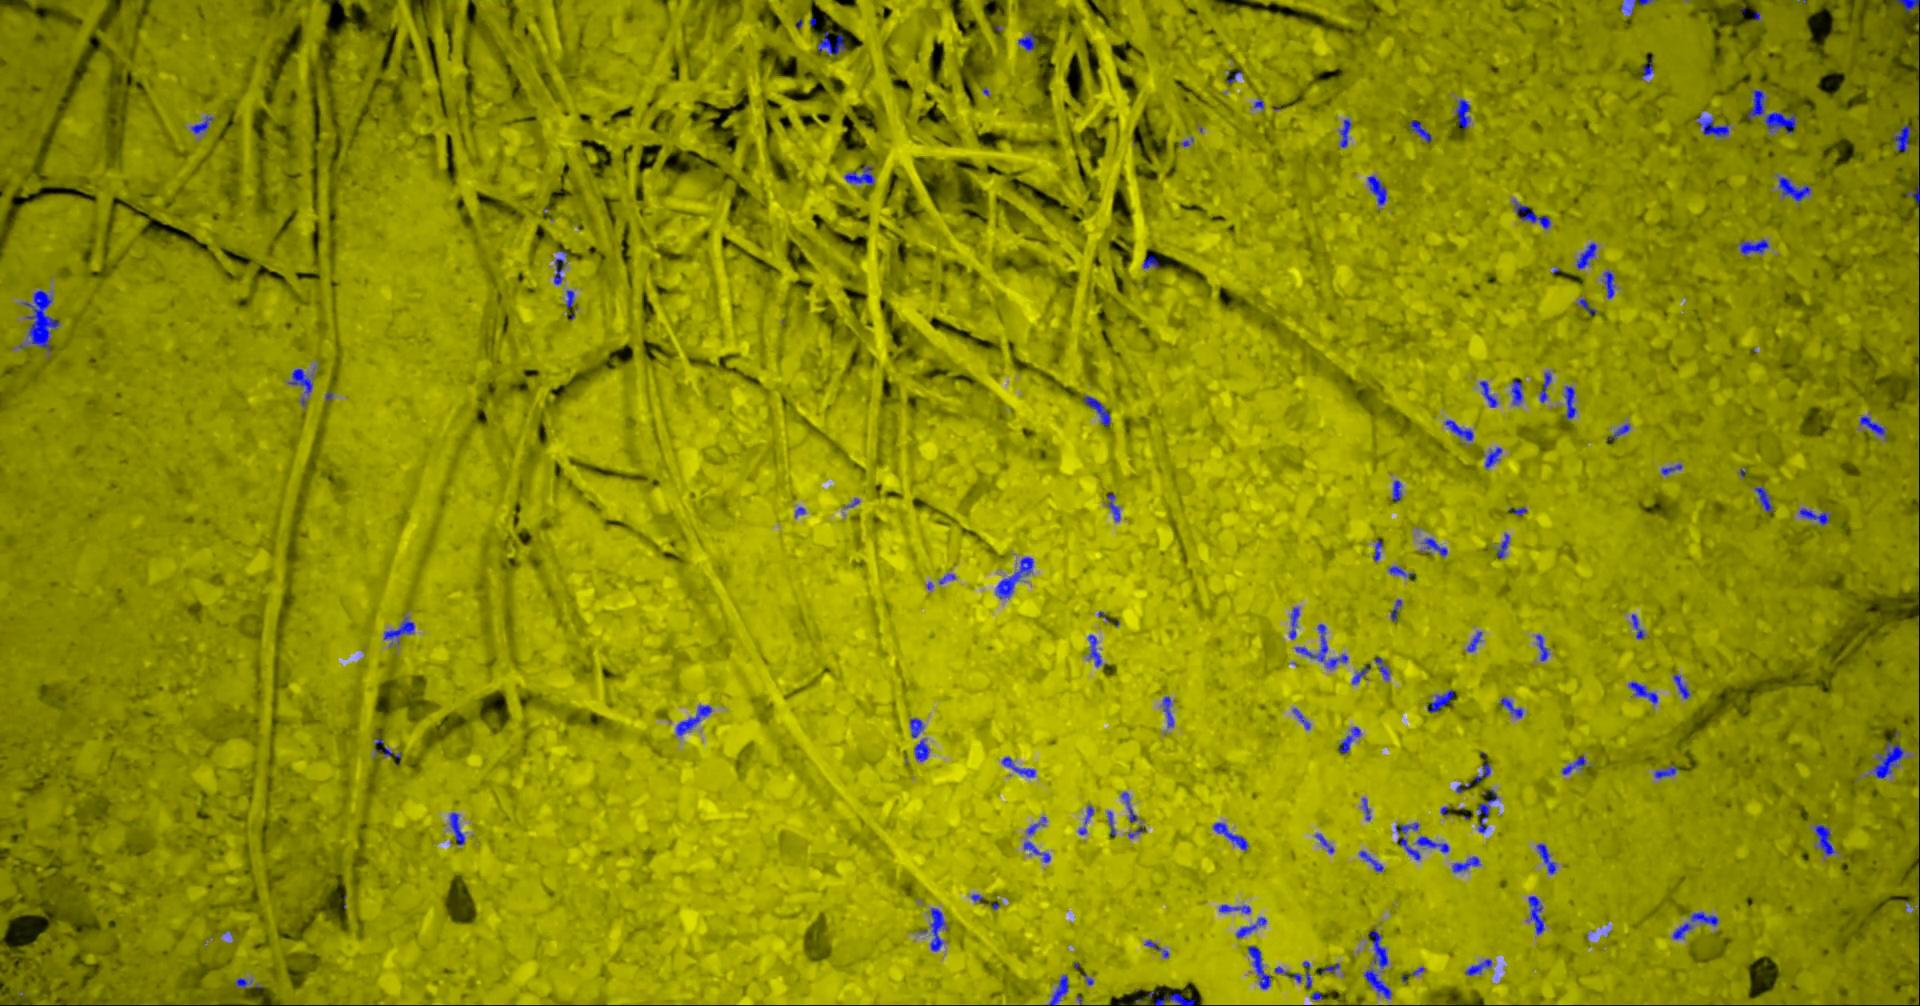ant: (1294, 622, 1349, 668), (22, 290, 58, 351), (1747, 89, 1796, 133), (996, 556, 1032, 598), (1672, 911, 1718, 939), (1872, 741, 1903, 779), (676, 704, 711, 735), (1514, 199, 1550, 227), (1247, 945, 1270, 989), (1211, 822, 1247, 850), (287, 368, 312, 405), (1274, 962, 1310, 987), (1396, 822, 1420, 860), (1477, 789, 1497, 832), (1364, 969, 1390, 998), (1083, 395, 1109, 426), (383, 617, 414, 643), (1778, 177, 1810, 201), (1368, 929, 1387, 968), (1001, 756, 1035, 777), (1695, 116, 1728, 137), (817, 30, 844, 56), (1815, 823, 1836, 855), (1236, 916, 1266, 937), (1426, 688, 1453, 713), (1628, 681, 1657, 702), (1528, 895, 1544, 934), (930, 907, 943, 951), (1048, 974, 1068, 1005), (1444, 419, 1473, 439), (1415, 835, 1448, 852), (1537, 843, 1556, 874), (1859, 417, 1886, 438), (1338, 727, 1360, 753), (1023, 841, 1050, 862), (844, 165, 872, 185), (1895, 0, 1919, 23), (1576, 243, 1596, 269), (1408, 119, 1431, 142), (1359, 850, 1383, 871), (1368, 175, 1385, 205), (1799, 507, 1829, 525), (375, 738, 400, 758), (1154, 992, 1195, 1005), (1120, 791, 1137, 822), (1422, 537, 1448, 556), (1738, 239, 1768, 255), (1451, 856, 1481, 873), (1893, 124, 1911, 151), (1479, 380, 1497, 406), (1464, 958, 1491, 976), (1455, 98, 1470, 128), (1620, 0, 1653, 14), (450, 812, 463, 845), (1754, 486, 1773, 511), (1498, 697, 1523, 716), (1561, 754, 1585, 774), (1078, 805, 1093, 835), (1905, 173, 1919, 205), (1087, 634, 1101, 666), (1606, 423, 1630, 441), (1143, 940, 1168, 956), (1291, 708, 1310, 729), (190, 116, 213, 133), (1672, 674, 1689, 699), (1564, 385, 1576, 419), (1601, 271, 1615, 298), (1473, 758, 1490, 781), (1288, 607, 1299, 639), (1026, 815, 1045, 835), (1316, 833, 1333, 854), (1338, 119, 1351, 147), (1106, 493, 1119, 521), (1539, 371, 1550, 401), (1374, 657, 1389, 680), (1162, 696, 1173, 727), (1535, 634, 1548, 661), (1630, 614, 1644, 638), (1653, 765, 1677, 779), (1484, 447, 1501, 467), (913, 738, 928, 760), (1351, 664, 1368, 683), (1465, 631, 1481, 652), (1496, 533, 1509, 558), (552, 258, 564, 285), (234, 977, 260, 988), (1018, 32, 1035, 50), (1511, 379, 1523, 404), (1218, 904, 1250, 913), (1641, 55, 1653, 76), (1578, 298, 1596, 314), (909, 718, 923, 737), (1388, 567, 1413, 577), (1390, 600, 1401, 622), (1142, 255, 1159, 268), (1390, 479, 1401, 500), (1371, 539, 1382, 560), (1319, 962, 1338, 973), (1361, 796, 1370, 821), (1661, 464, 1681, 474), (565, 290, 574, 307)
